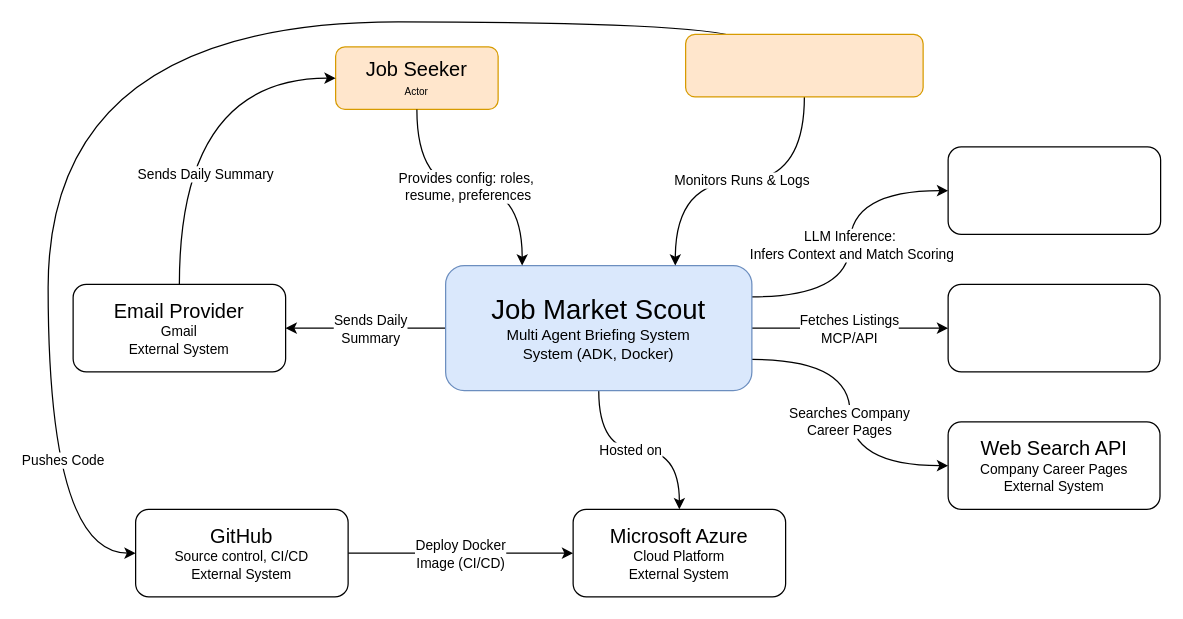
Some shapes in this 1183 by 619 pixel diagram are drawn without their labels. The centre of each missing label's shape, as x and y in pixels:
"DeepSeek LLM inference API External System" belongs at [1054,190].
"Developer/Maintainer Actor" belongs at [803,65].
"Job Boards Seek · LinkedIn External System" belongs at [1053,327].
